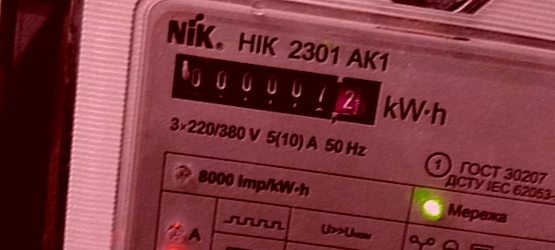0: (186, 64, 204, 90), (263, 73, 281, 98), (238, 70, 255, 95), (212, 68, 229, 92), (288, 76, 304, 101)
2: (340, 88, 356, 113)
7: (314, 80, 329, 105)
screen: (158, 40, 392, 139)
